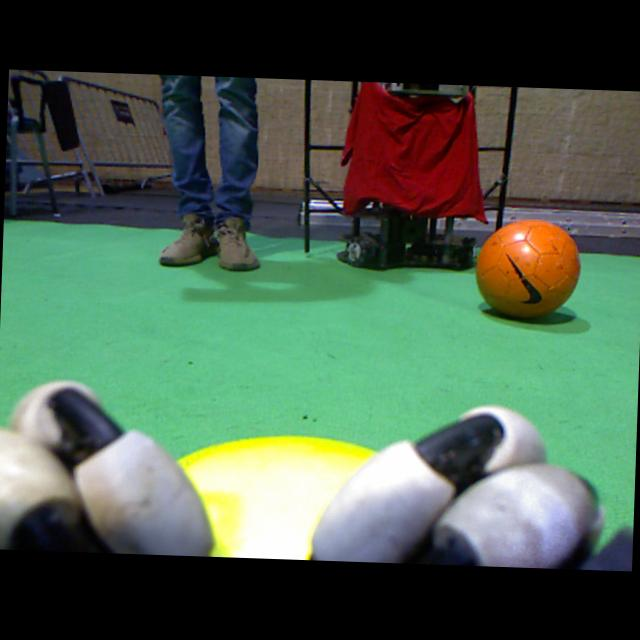ball: (173, 437, 381, 559), (476, 219, 580, 317)
